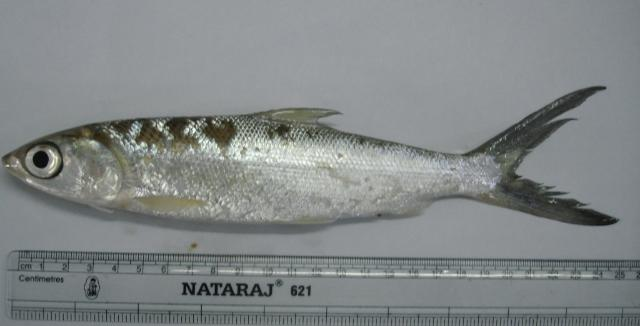Mulut: (0, 132, 42, 206)
Sirip Dada: (130, 183, 218, 231)
Sirip Ekor: (456, 74, 628, 240)
Sirip Punggung: (243, 85, 351, 147)
